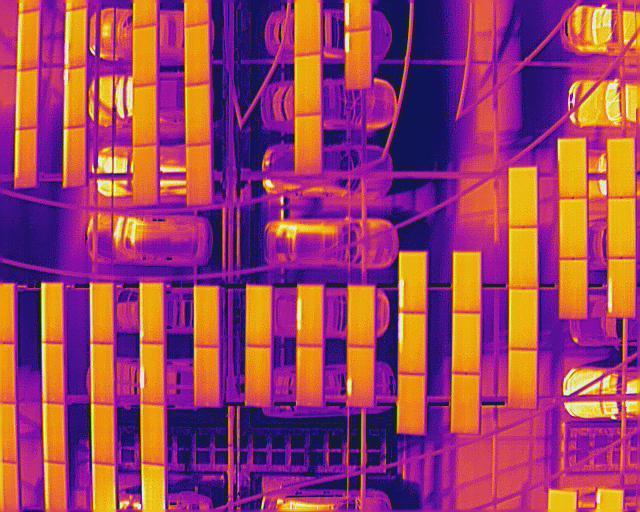Cell: (140, 282, 164, 342)
No-Anomaly: (449, 375, 481, 434), (556, 138, 587, 198), (395, 375, 425, 436), (451, 312, 481, 373), (508, 166, 538, 227), (507, 349, 537, 409), (294, 53, 322, 117), (508, 288, 537, 349), (607, 197, 636, 258), (294, 113, 322, 176), (452, 252, 481, 312), (508, 228, 537, 288), (558, 259, 587, 319), (606, 138, 635, 197), (347, 285, 375, 346), (559, 198, 587, 259), (186, 143, 212, 208), (183, 22, 209, 86), (131, 24, 157, 88), (296, 346, 323, 407), (245, 346, 271, 409), (293, 0, 322, 56), (245, 286, 272, 346), (132, 145, 158, 206), (186, 83, 211, 146), (41, 402, 67, 462), (194, 347, 219, 409), (13, 126, 37, 189), (194, 287, 219, 347), (140, 404, 165, 464), (90, 284, 114, 344), (133, 85, 157, 145), (40, 344, 64, 403), (17, 9, 39, 71), (40, 284, 63, 343), (16, 69, 38, 129), (91, 344, 113, 404), (91, 405, 113, 464), (43, 462, 68, 512), (140, 463, 165, 512), (91, 464, 115, 512)
Unclassified: (397, 253, 427, 312), (605, 258, 635, 317), (397, 313, 426, 374), (344, 30, 373, 91), (347, 346, 375, 409), (296, 286, 323, 346), (140, 343, 164, 404), (62, 125, 85, 188), (63, 66, 85, 128), (64, 8, 85, 69)
